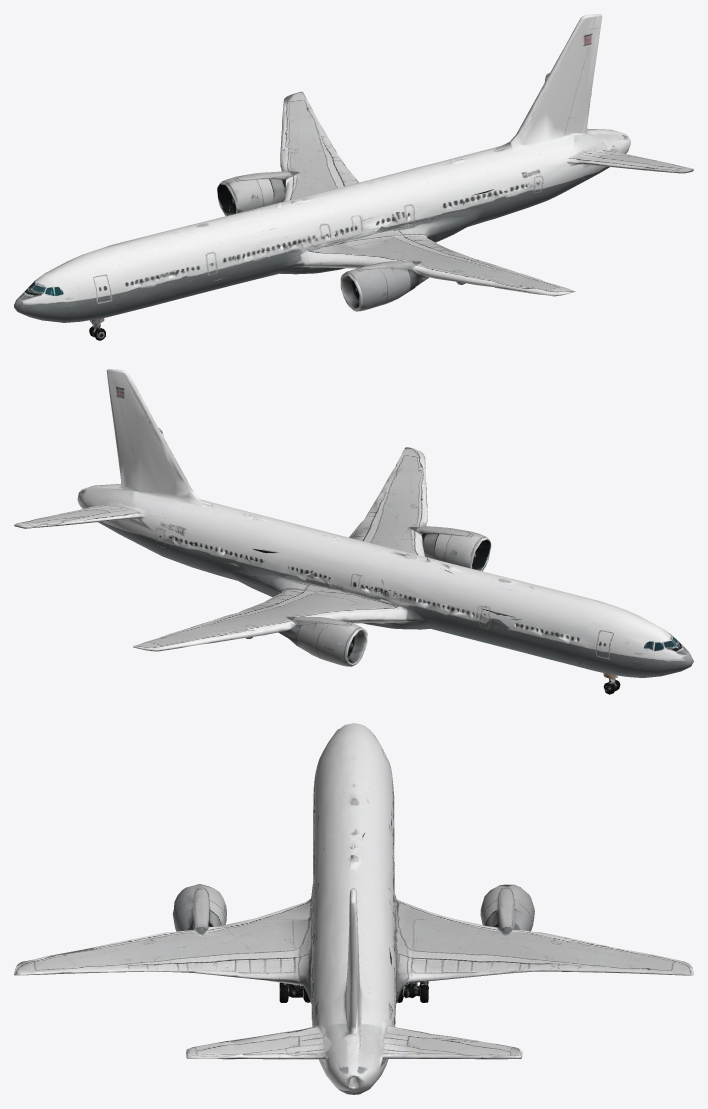
The model's file is pesawat.glb.
The picture shows the model from 3 angles, top to bottom: view 1: azimuth 30°, elevation 25°; view 2: azimuth 150°, elevation 25°; view 3: azimuth 270°, elevation 25°; orthographic projection. The views are drawn at different scales.
Size of the model in its own units: 1.9 by 0.604 by 1.47.
Materials: 1 (1 with a texture image).
